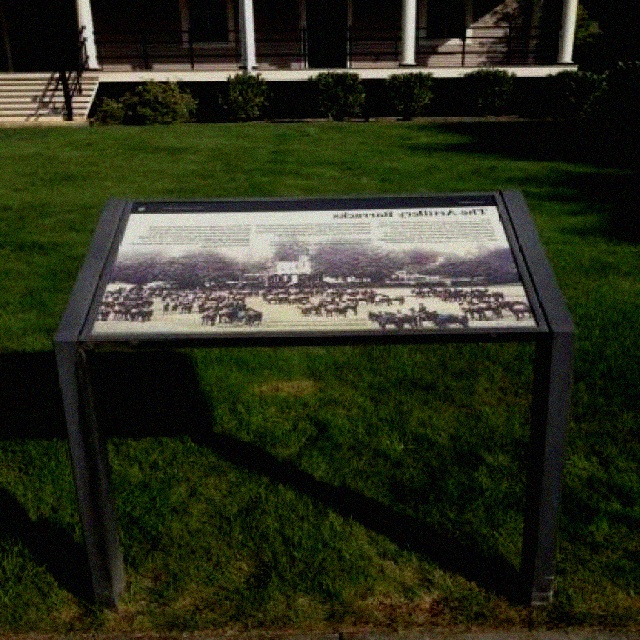stair: (0, 72, 100, 125)
